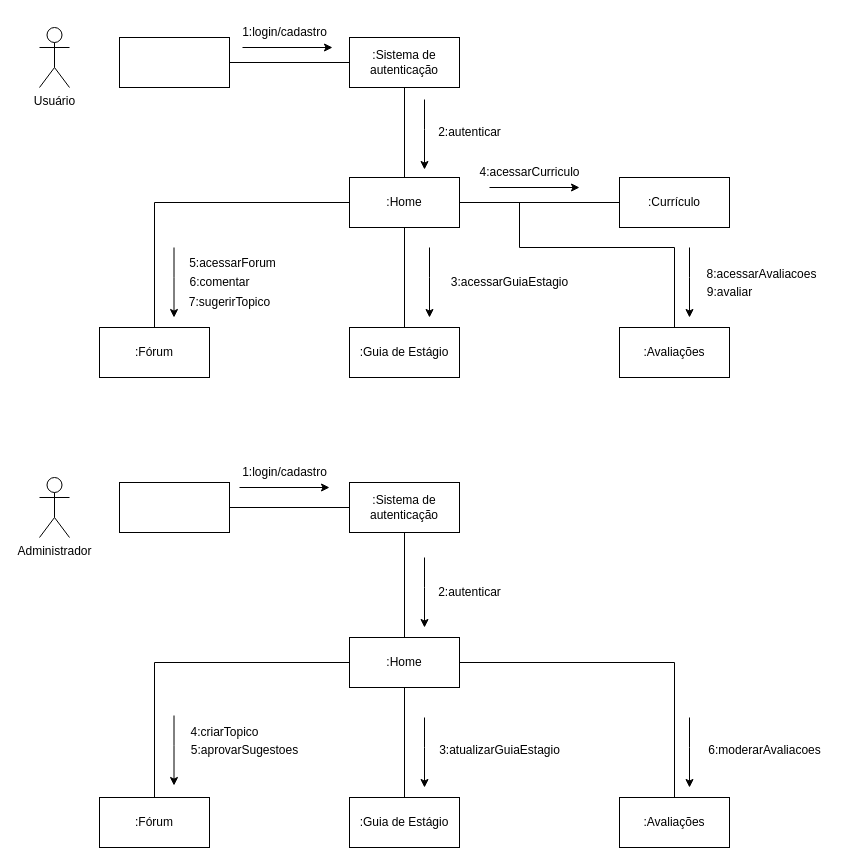
Image size: 851x865. Some labels were removed from this diagram. The shapes that lost their labels are listed below. From the top down, each one's centre as x and y in pixels, then its label:
point (174, 62): :Usuário
point (174, 507): :Administrador
